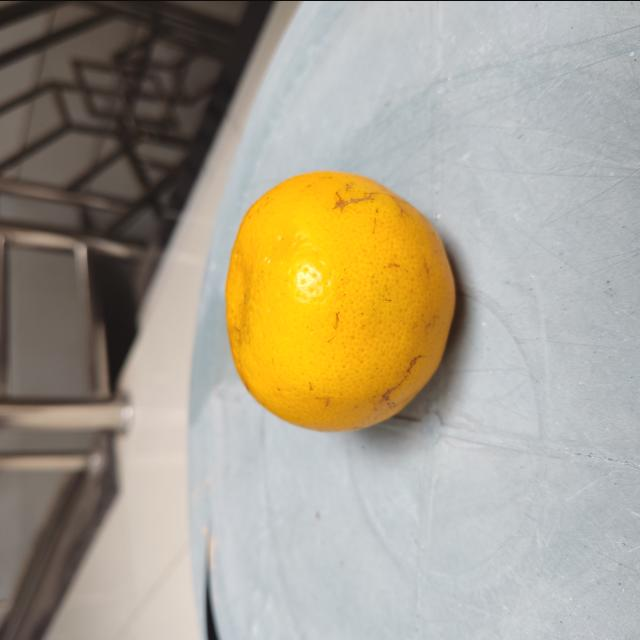orange: (224, 165, 460, 436)
